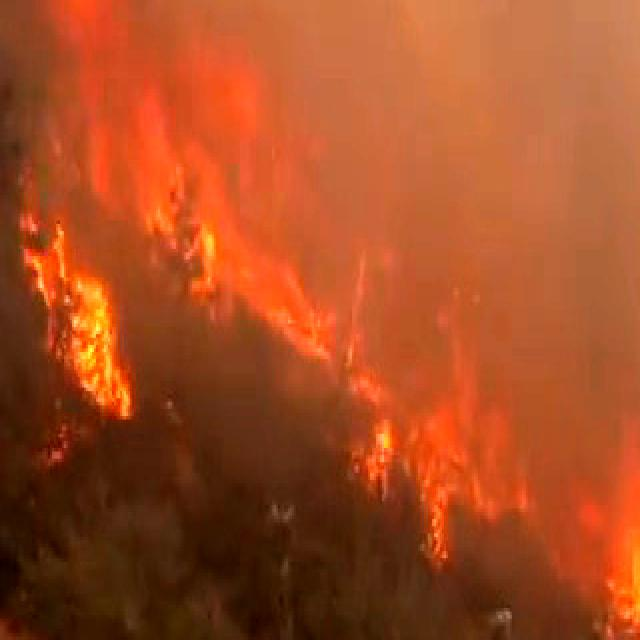fire: (149, 113, 435, 470), (54, 0, 182, 270), (0, 107, 82, 441), (544, 448, 640, 640)
smoke: (452, 0, 640, 348)
